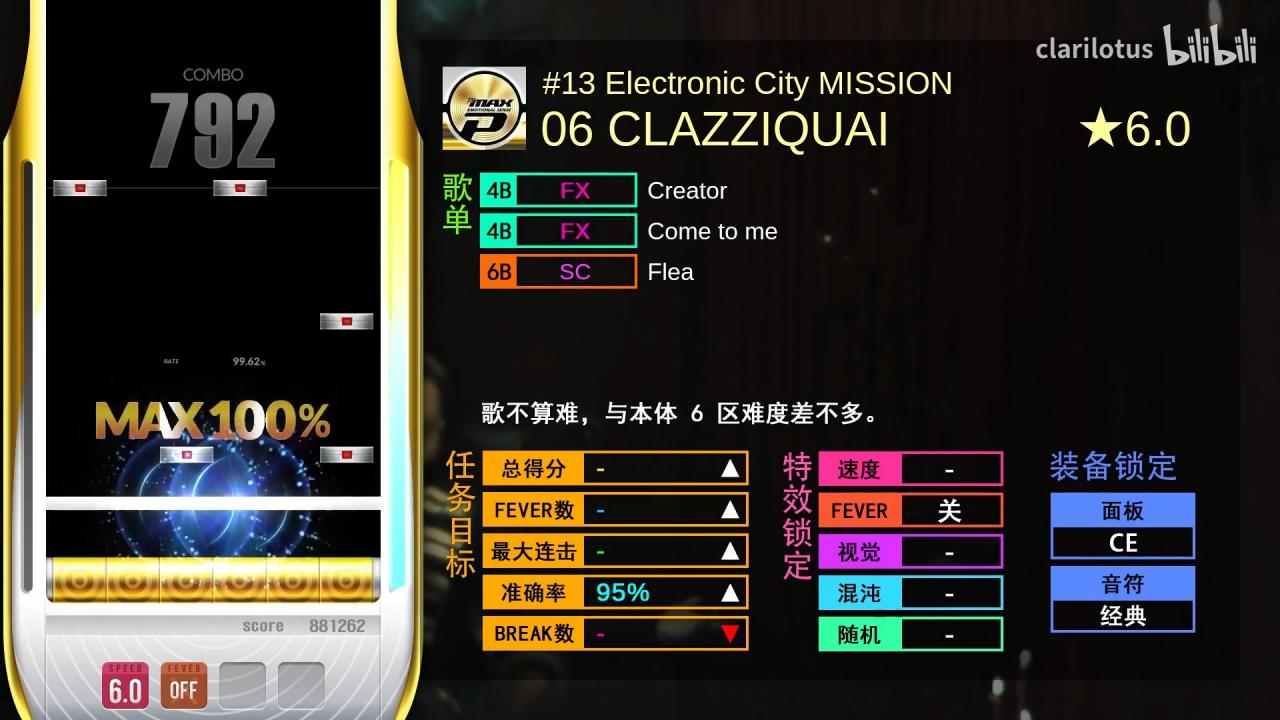note: (319, 312, 374, 330), (54, 179, 107, 197), (213, 179, 267, 196), (160, 446, 214, 463), (320, 446, 374, 463)
